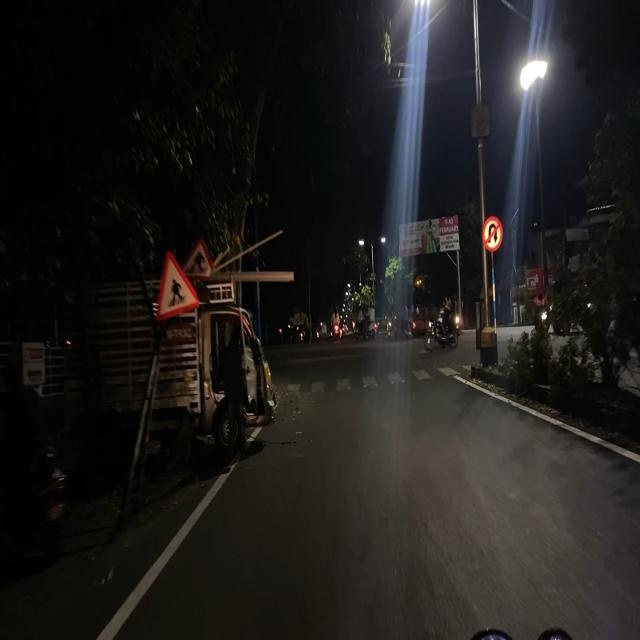bien_cam: (156, 248, 198, 322), (183, 236, 213, 284), (482, 215, 503, 252)
